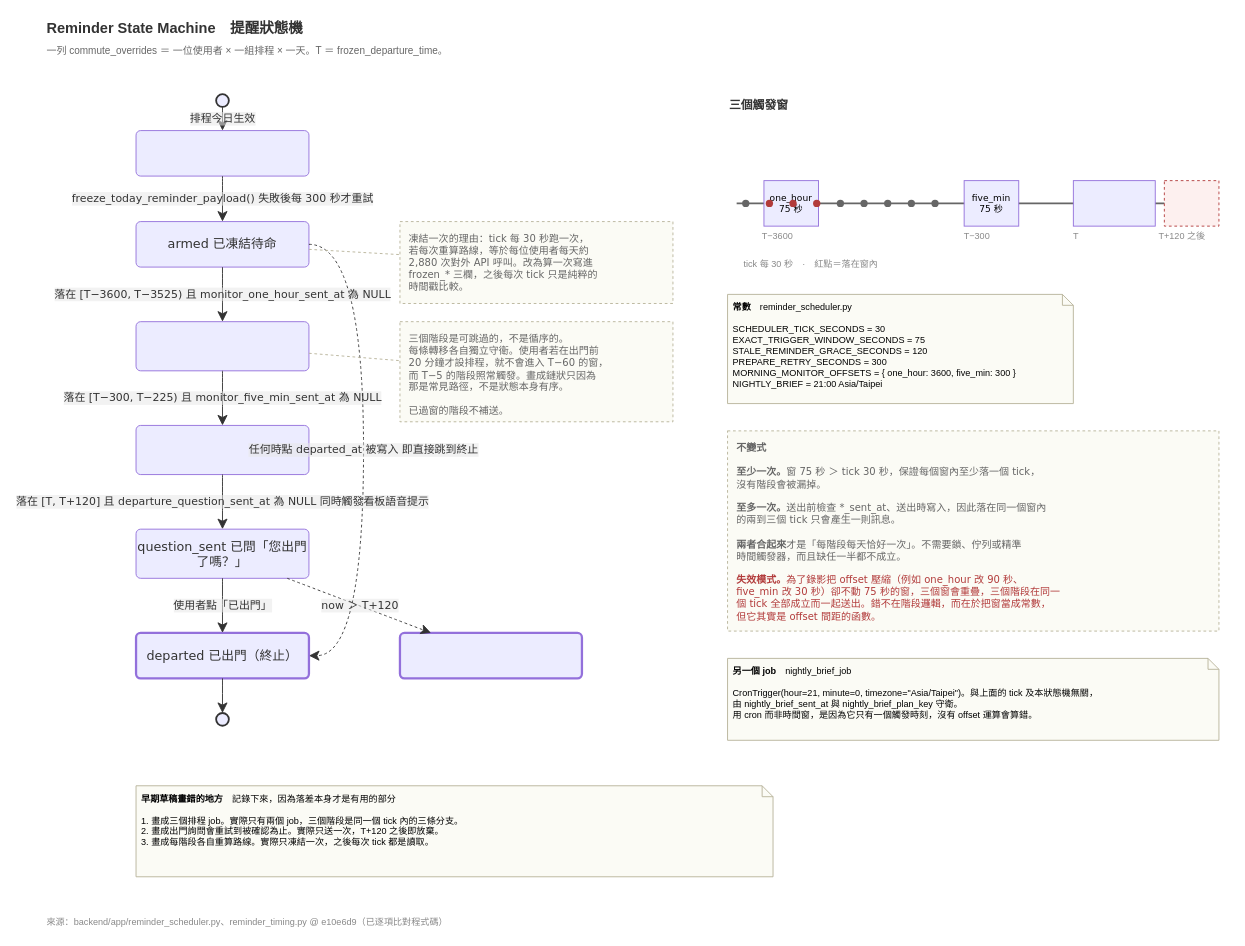
Some shapes in this 1245 by 946 pixel diagram are drawn without their labels. Here are the shapes that lost their labels. From the top down, the centre of each, then its label:
At (222,153): "unprepared 未凍結".
At (1113,203): "departure 120 秒".
At (1191,203): "逾時放棄".
At (222,346): "one_hour_sent 已送 T−60 分提醒".
At (222,450): "five_min_sent 已送 T−5 分提醒".
At (490,655): "stale 逾時放棄（終止 · 靜默）".
